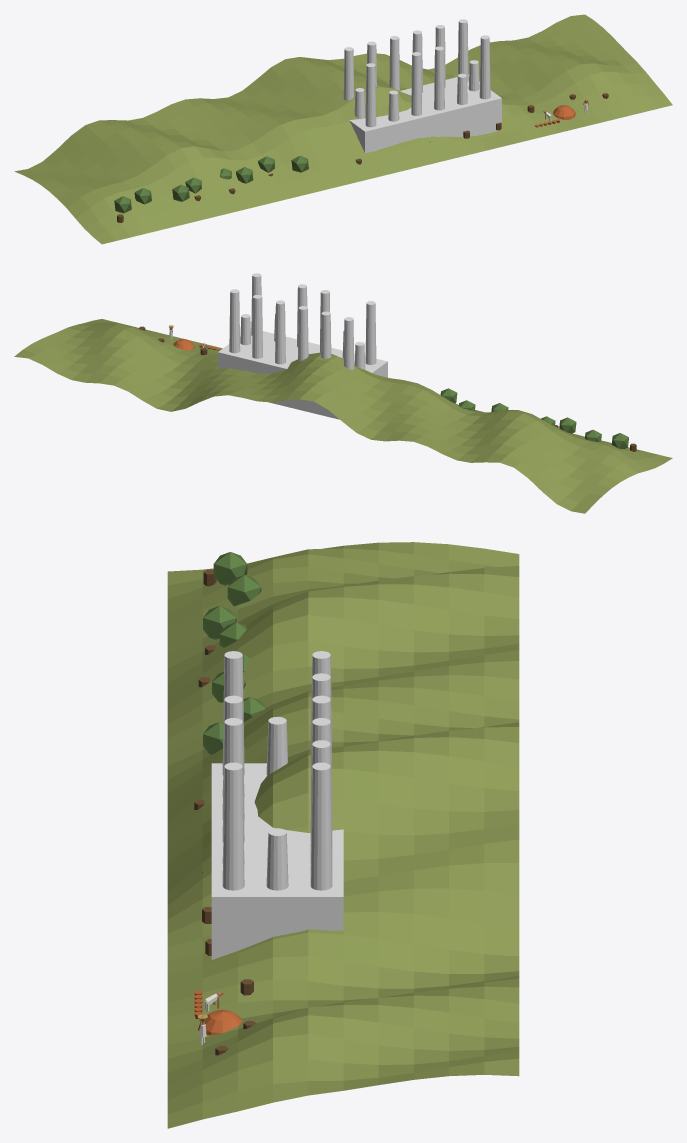
File: grecia_bg_mid.fbx
The picture shows the model from 3 angles, top to bottom: view 1: azimuth 30°, elevation 25°; view 2: azimuth 150°, elevation 25°; view 3: azimuth 270°, elevation 25°; orthographic projection. The views are drawn at different scales.
Visible parts, largest first — view 1: grecia_bg_mid; view 2: grecia_bg_mid; view 3: grecia_bg_mid.
Part boxes in pixels (left/top/right/bottom): grecia_bg_mid: left=14, top=14, right=672, bottom=244; grecia_bg_mid: left=14, top=273, right=672, bottom=513; grecia_bg_mid: left=167, top=542, right=519, bottom=1128.
Bounding box in the file's own units: 60 × 11 × 16.
